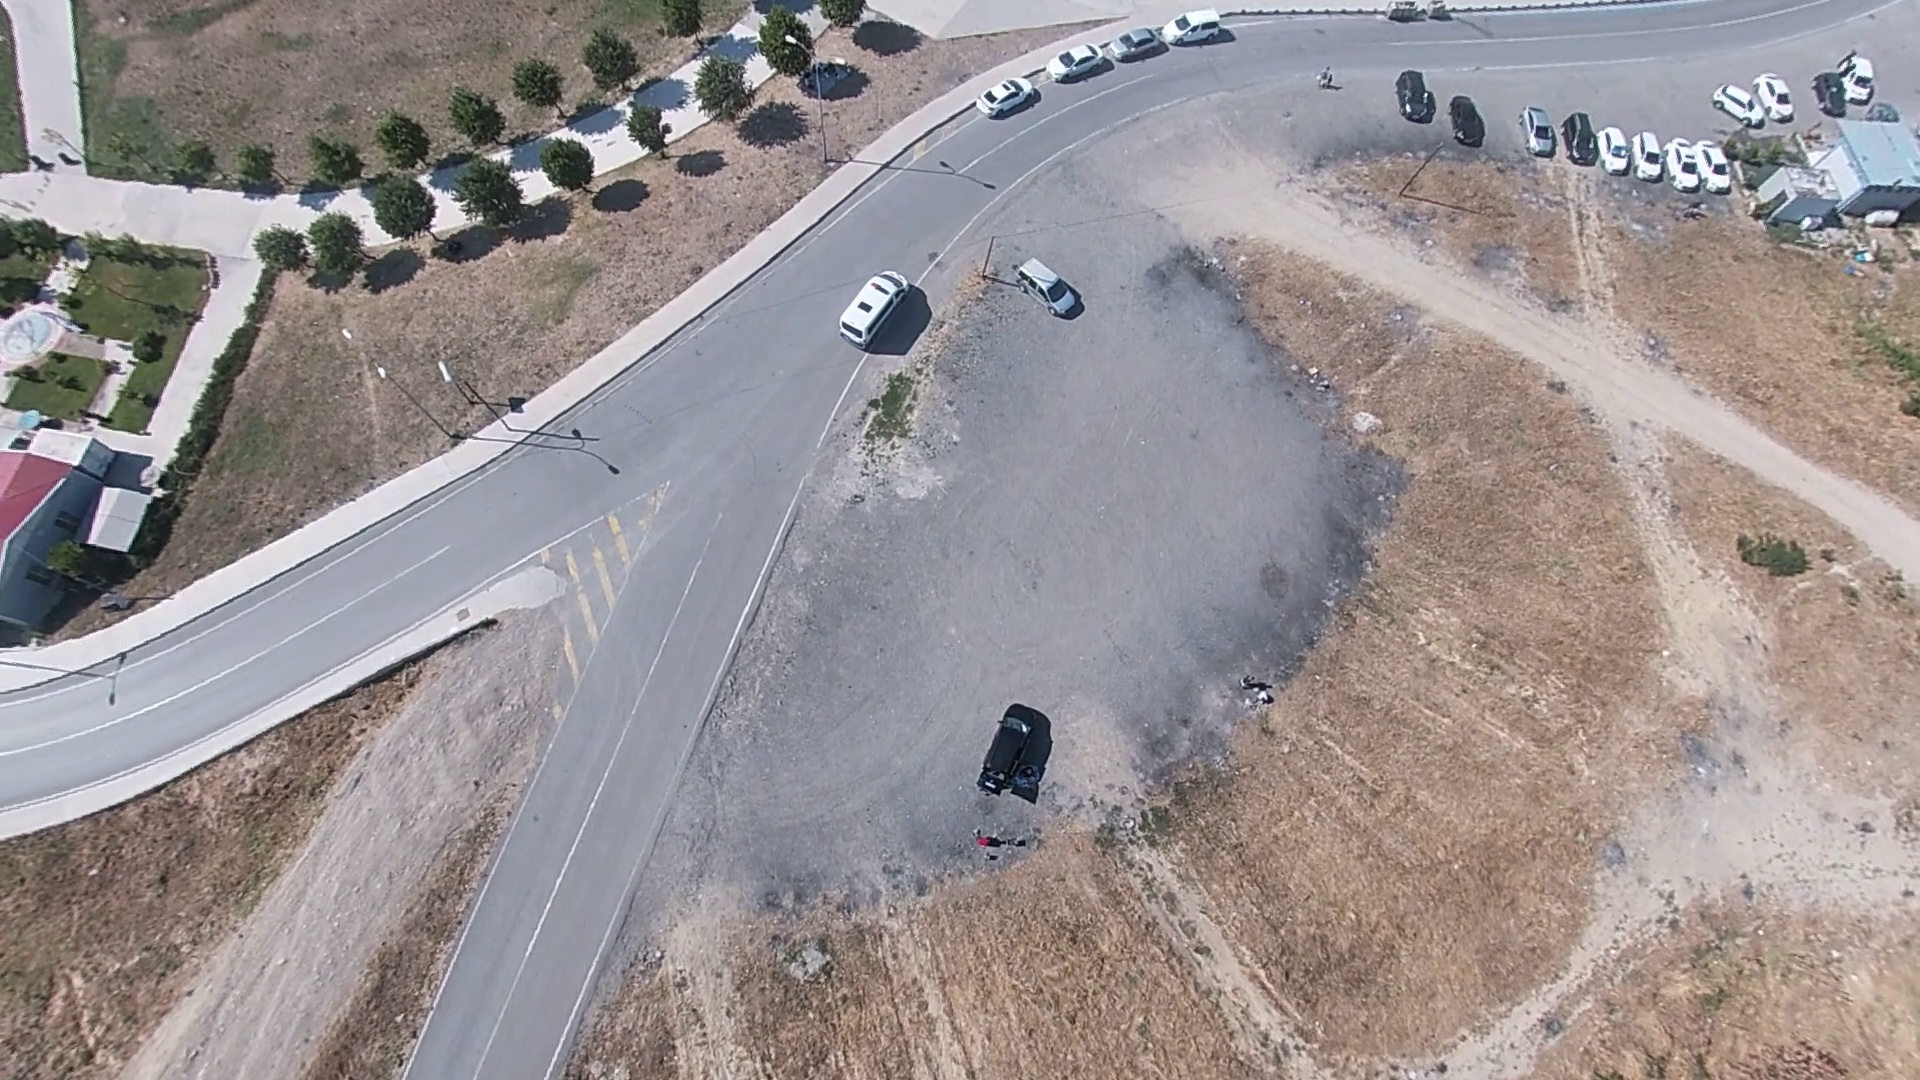arac: (835, 261, 922, 348), (973, 710, 1045, 804), (1020, 255, 1088, 316), (974, 75, 1037, 121), (1163, 3, 1225, 47), (1045, 40, 1103, 84), (1712, 80, 1764, 128), (1692, 139, 1734, 194), (1560, 109, 1599, 167), (1449, 94, 1490, 147), (1754, 72, 1796, 123), (1664, 136, 1699, 196), (1107, 27, 1159, 64), (1839, 56, 1883, 102), (1595, 127, 1634, 178), (1521, 106, 1556, 158), (1631, 129, 1666, 179), (1813, 73, 1847, 119), (1395, 71, 1427, 119)
insan: (1316, 66, 1333, 89)
